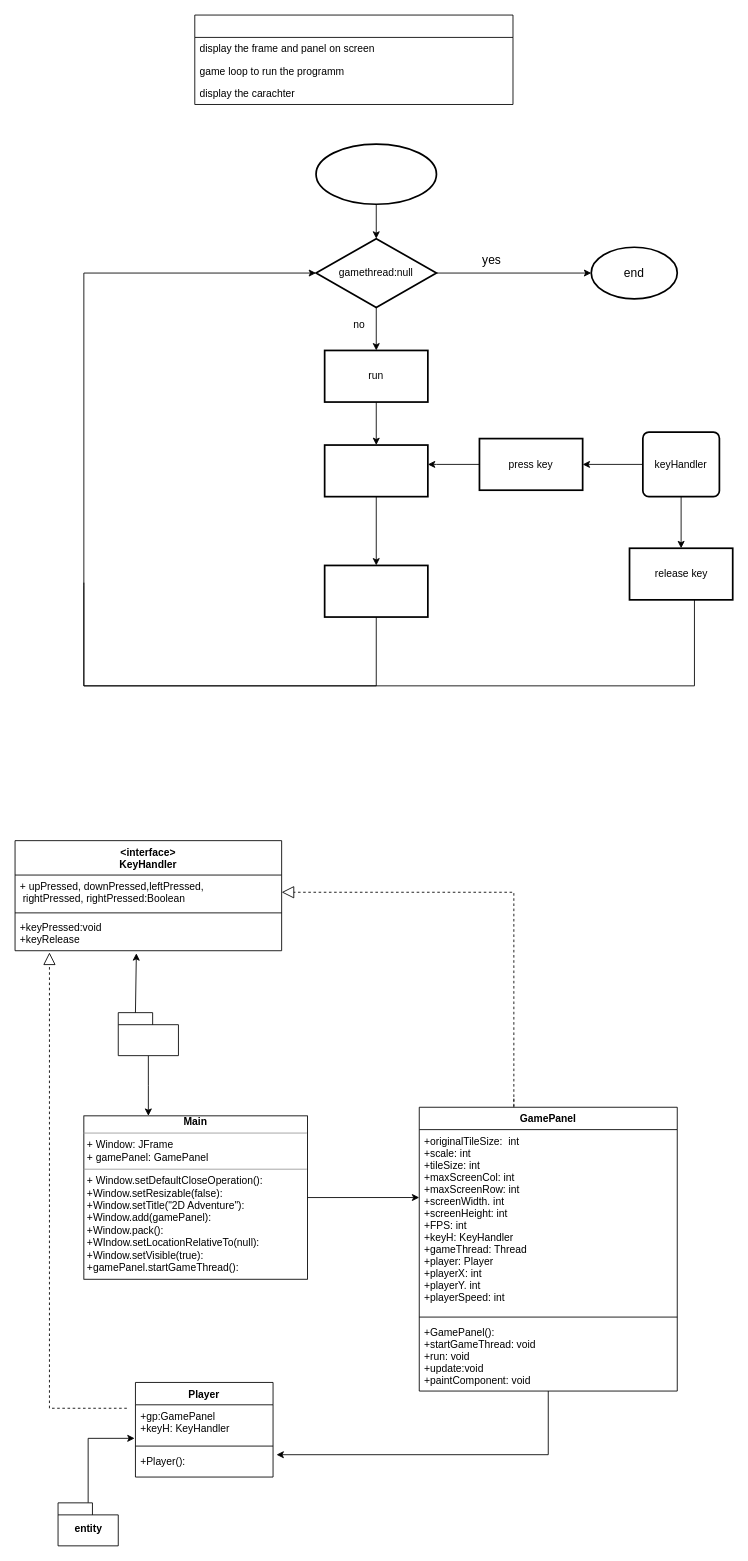
The diagram is 748 pixels wide and 1561 high, and some of its shapes have lost their labels. The box of each missing label's shape, as (x1, y1, x2, y2) in pixels:
main: (117, 1012, 178, 1056)
Roadmap: (194, 14, 513, 104)
screen repaint: (323, 564, 428, 617)
screen update: (323, 444, 428, 497)
start: (315, 143, 437, 205)
